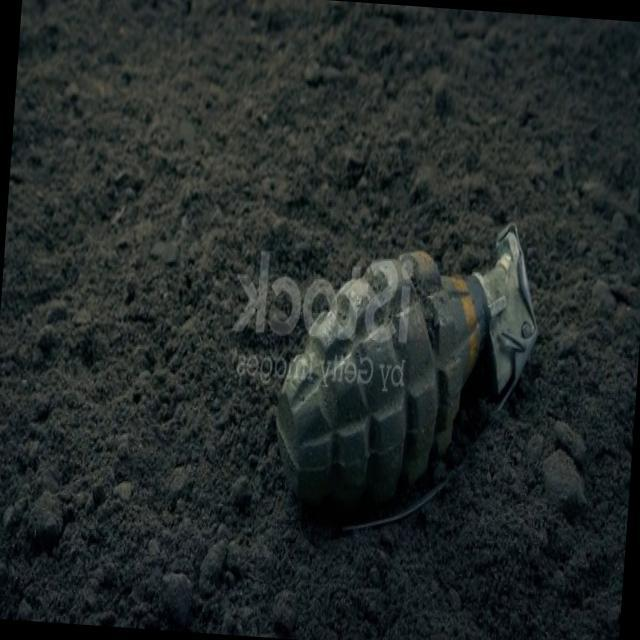grenade: (259, 210, 546, 552)
